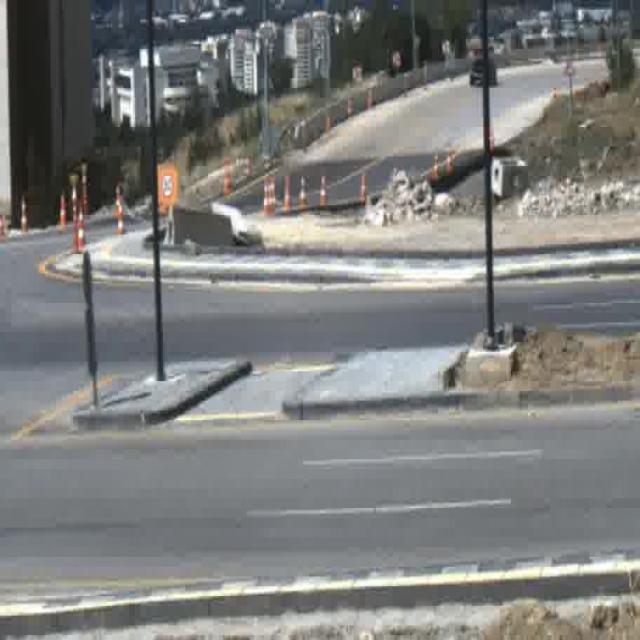Car: (470, 54, 498, 85)
